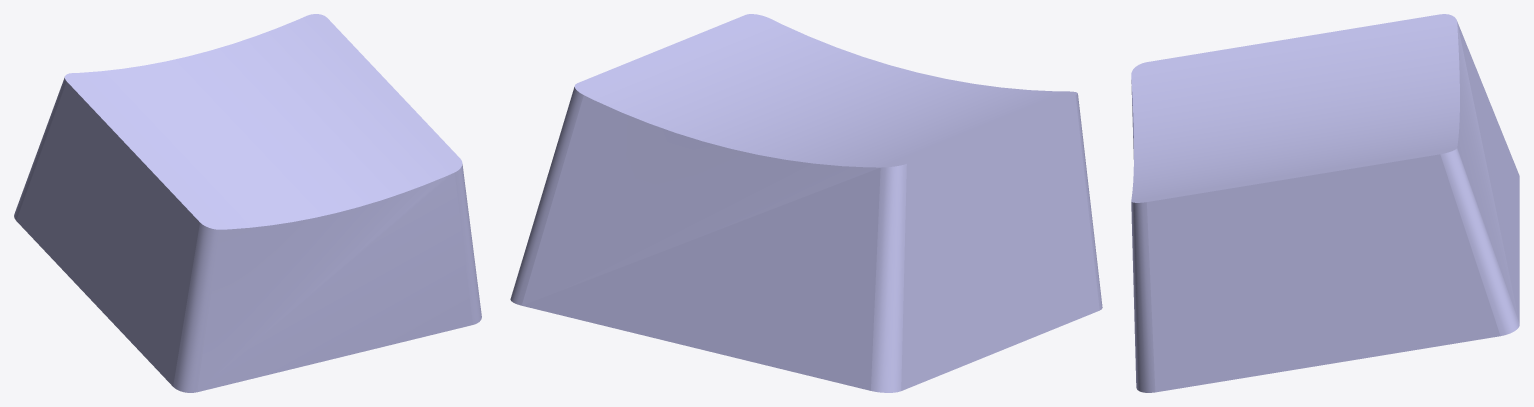
File: original-68.obj
The picture shows the model from 3 angles, left to right: view 1: azimuth 30°, elevation 25°; view 2: azimuth 150°, elevation 25°; view 3: azimuth 270°, elevation 25°; orthographic projection. The views are drawn at different scales.
Visible parts, largest first — view 1: 组件_1_53/组件_1/mesh7/mesh7-geometry#mesh7-geometry; view 2: 组件_1_53/组件_1/mesh7/mesh7-geometry#mesh7-geometry; view 3: 组件_1_53/组件_1/mesh7/mesh7-geometry#mesh7-geometry.
Part boxes in pixels (x1,y1,x2,y2): 组件_1_53/组件_1/mesh7/mesh7-geometry#mesh7-geometry: [14, 14, 481, 392]; 组件_1_53/组件_1/mesh7/mesh7-geometry#mesh7-geometry: [510, 14, 1102, 392]; 组件_1_53/组件_1/mesh7/mesh7-geometry#mesh7-geometry: [1131, 14, 1519, 392].
Size of the model in its own units: 0.0751 by 0.0489 by 0.0749.
